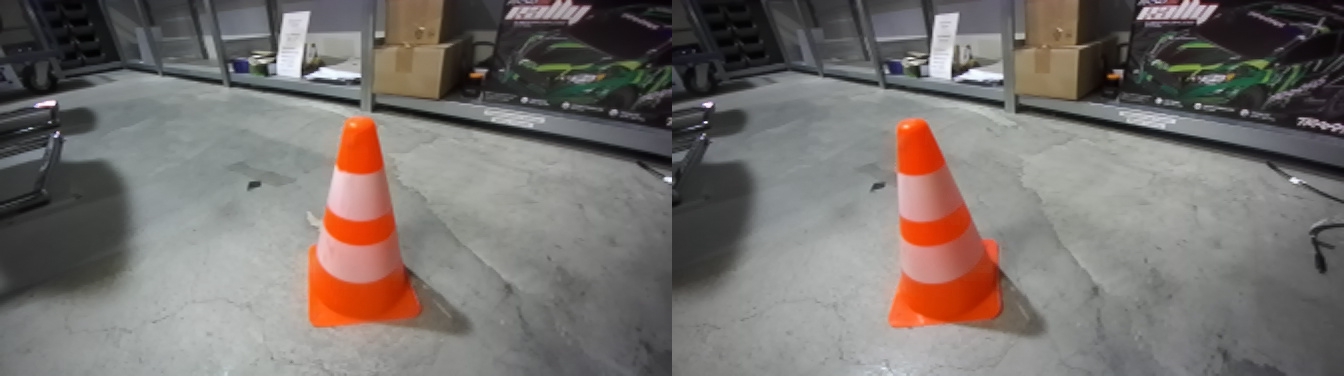cone: (883, 126, 1007, 332), (311, 120, 424, 338)
